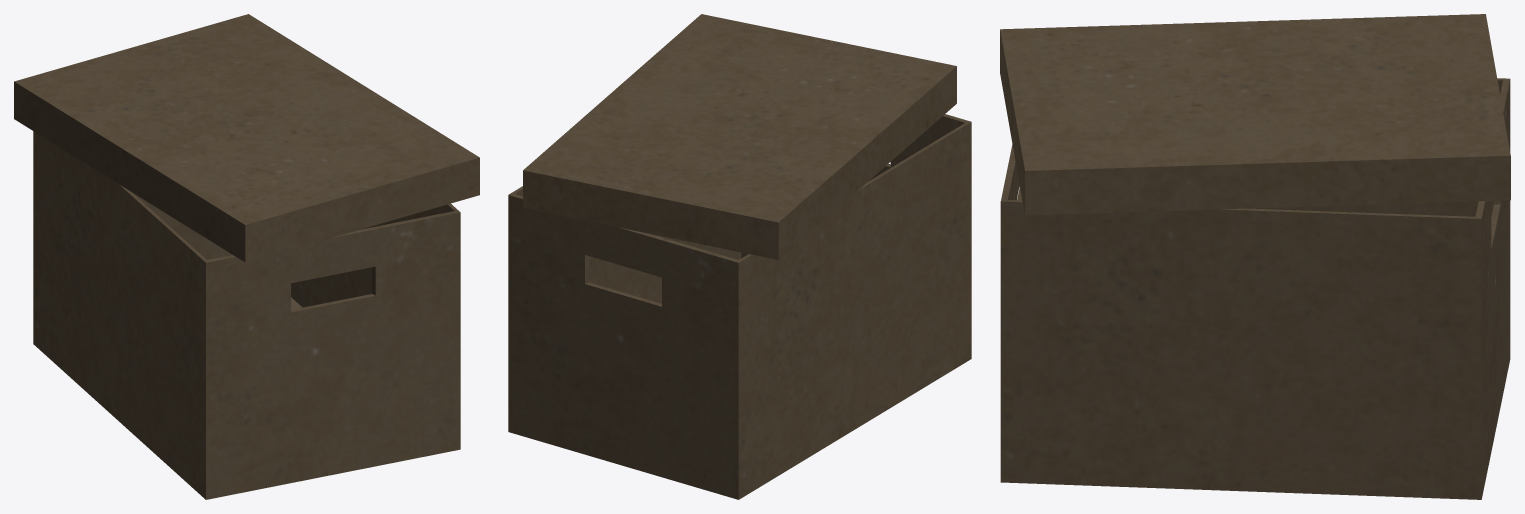
Rendered from file box with lid 1.fbx.
The picture shows the model from 3 angles, left to right: view 1: azimuth 30°, elevation 25°; view 2: azimuth 150°, elevation 25°; view 3: azimuth 270°, elevation 25°; orthographic projection. The views are drawn at different scales.
Visible parts, largest first — view 1: Mesh_24; view 2: Mesh_24; view 3: Mesh_24.
Part boxes in pixels (left/top/right/bottom): Mesh_24: left=14, top=14, right=479, bottom=499; Mesh_24: left=508, top=14, right=971, bottom=499; Mesh_24: left=1000, top=14, right=1510, bottom=499.
Size of the model in its own units: 137 by 133 by 187.
